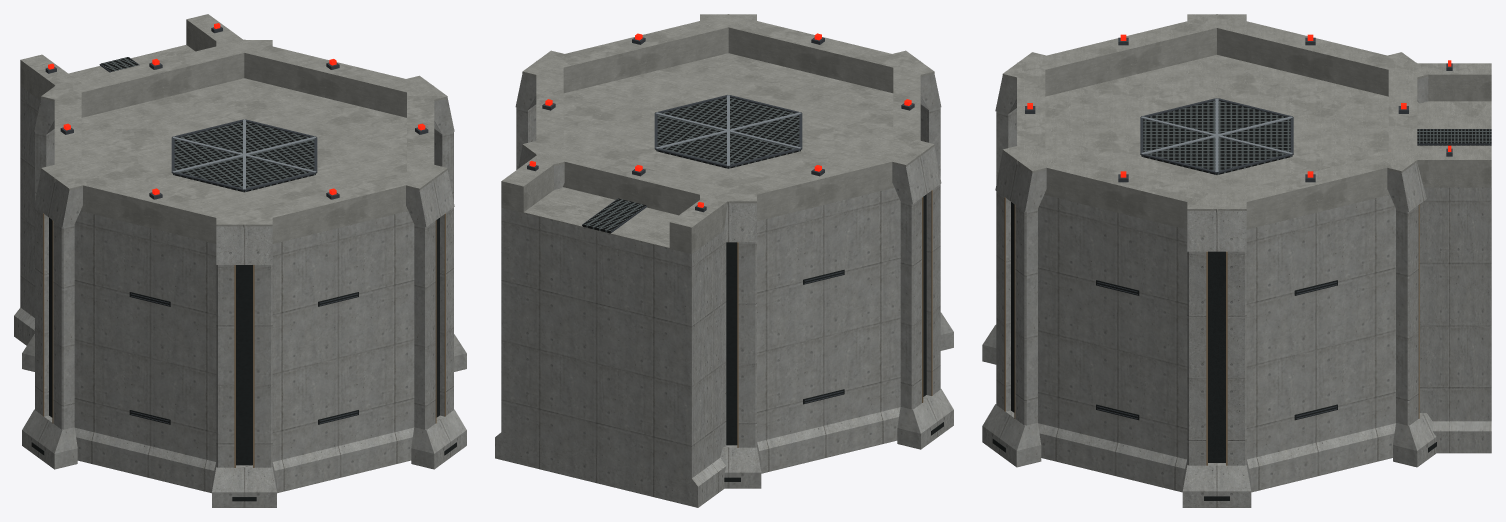
The model's file is pier.glb.
The picture shows the model from 3 angles, left to right: view 1: azimuth 30°, elevation 25°; view 2: azimuth 150°, elevation 25°; view 3: azimuth 270°, elevation 25°; orthographic projection. The views are drawn at different scales.
Parts seen in each view (by area): view 1: pier-lod0-roof0, pier-lod0-base0, pier-lod0-floor0, pier-lod0-roof0-link-n, pier-lod0-base0-link-n, pier-lod0-floor0-link-n; view 2: pier-lod0-roof0, pier-lod0-base0, pier-lod0-floor0, pier-lod0-base0-link-n, pier-lod0-floor0-link-n, pier-lod0-roof0-link-n; view 3: pier-lod0-roof0, pier-lod0-base0, pier-lod0-floor0, pier-lod0-roof0-link-n, pier-lod0-floor0-link-n, pier-lod0-base0-link-n.
Boxes of the visible parts, x1,y1,x2,y2 form: pier-lod0-roof0: (34,39,454,267); pier-lod0-base0: (22,328,466,507); pier-lod0-floor0: (35,131,453,385); pier-lod0-roof0-link-n: (20,14,243,111); pier-lod0-base0-link-n: (14,217,34,345); pier-lod0-floor0-link-n: (20,99,38,227); pier-lod0-roof0: (515,14,941,244); pier-lod0-base0: (720,306,953,488); pier-lod0-floor0: (516,107,940,364); pier-lod0-base0-link-n: (495,340,726,507); pier-lod0-floor0-link-n: (501,221,726,386); pier-lod0-roof0-link-n: (501,152,731,267); pier-lod0-roof0: (995,14,1430,254); pier-lod0-base0: (982,318,1436,507); pier-lod0-floor0: (996,110,1419,378); pier-lod0-roof0-link-n: (1407,60,1491,201); pier-lod0-floor0-link-n: (1419,201,1491,325); pier-lod0-base0-link-n: (1419,326,1491,453).
Size of what is drawn, in the model's own units: 65.96 by 43.07 by 66.76.
Materials: 8 (7 with a texture image).
